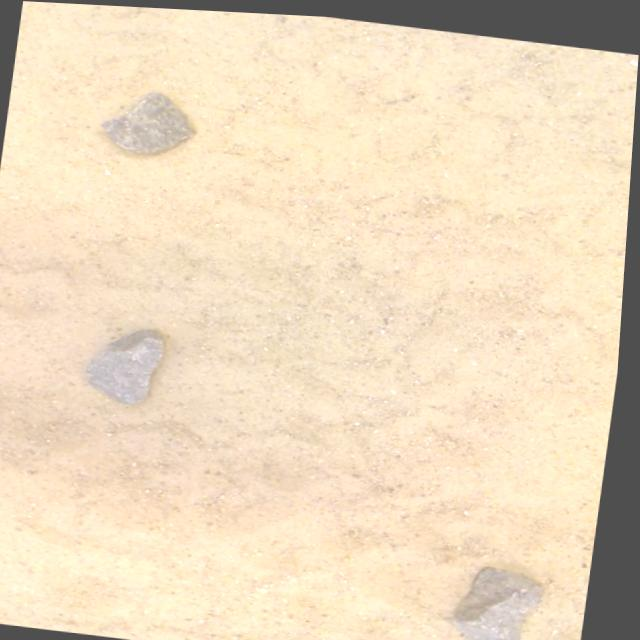rock: (461, 562, 550, 640), (103, 91, 195, 151), (91, 329, 166, 402)
